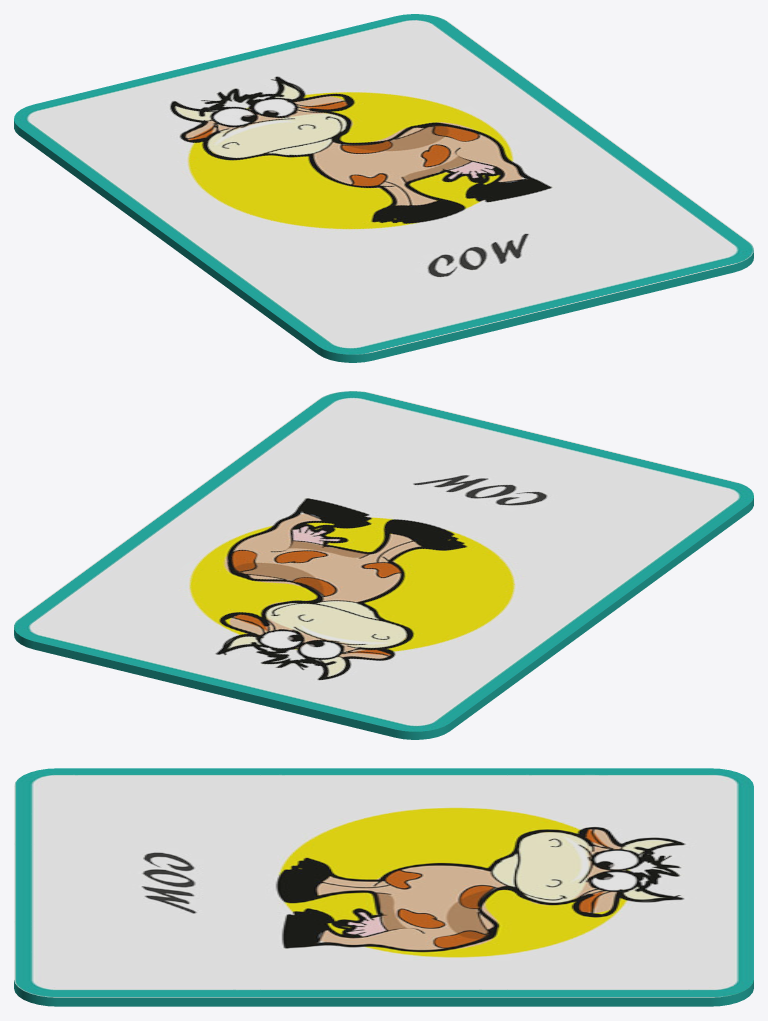
File: carta memory_cow.fbx
3 renders of one model, top to bottom at view 1: azimuth 30°, elevation 25°; view 2: azimuth 150°, elevation 25°; view 3: azimuth 270°, elevation 25°, orthographic. The views are drawn at different scales.
Parts seen in each view (by area): view 1: pCube1; view 2: pCube1; view 3: pCube1.
Boxes of the visible parts, x1,y1,x2,y2 form: pCube1: (14, 14, 753, 362); pCube1: (14, 391, 753, 739); pCube1: (14, 768, 753, 1006).
Bounding box in the file's own units: 5.5 × 0.1 × 7.5.
1 material, 1 textured.
